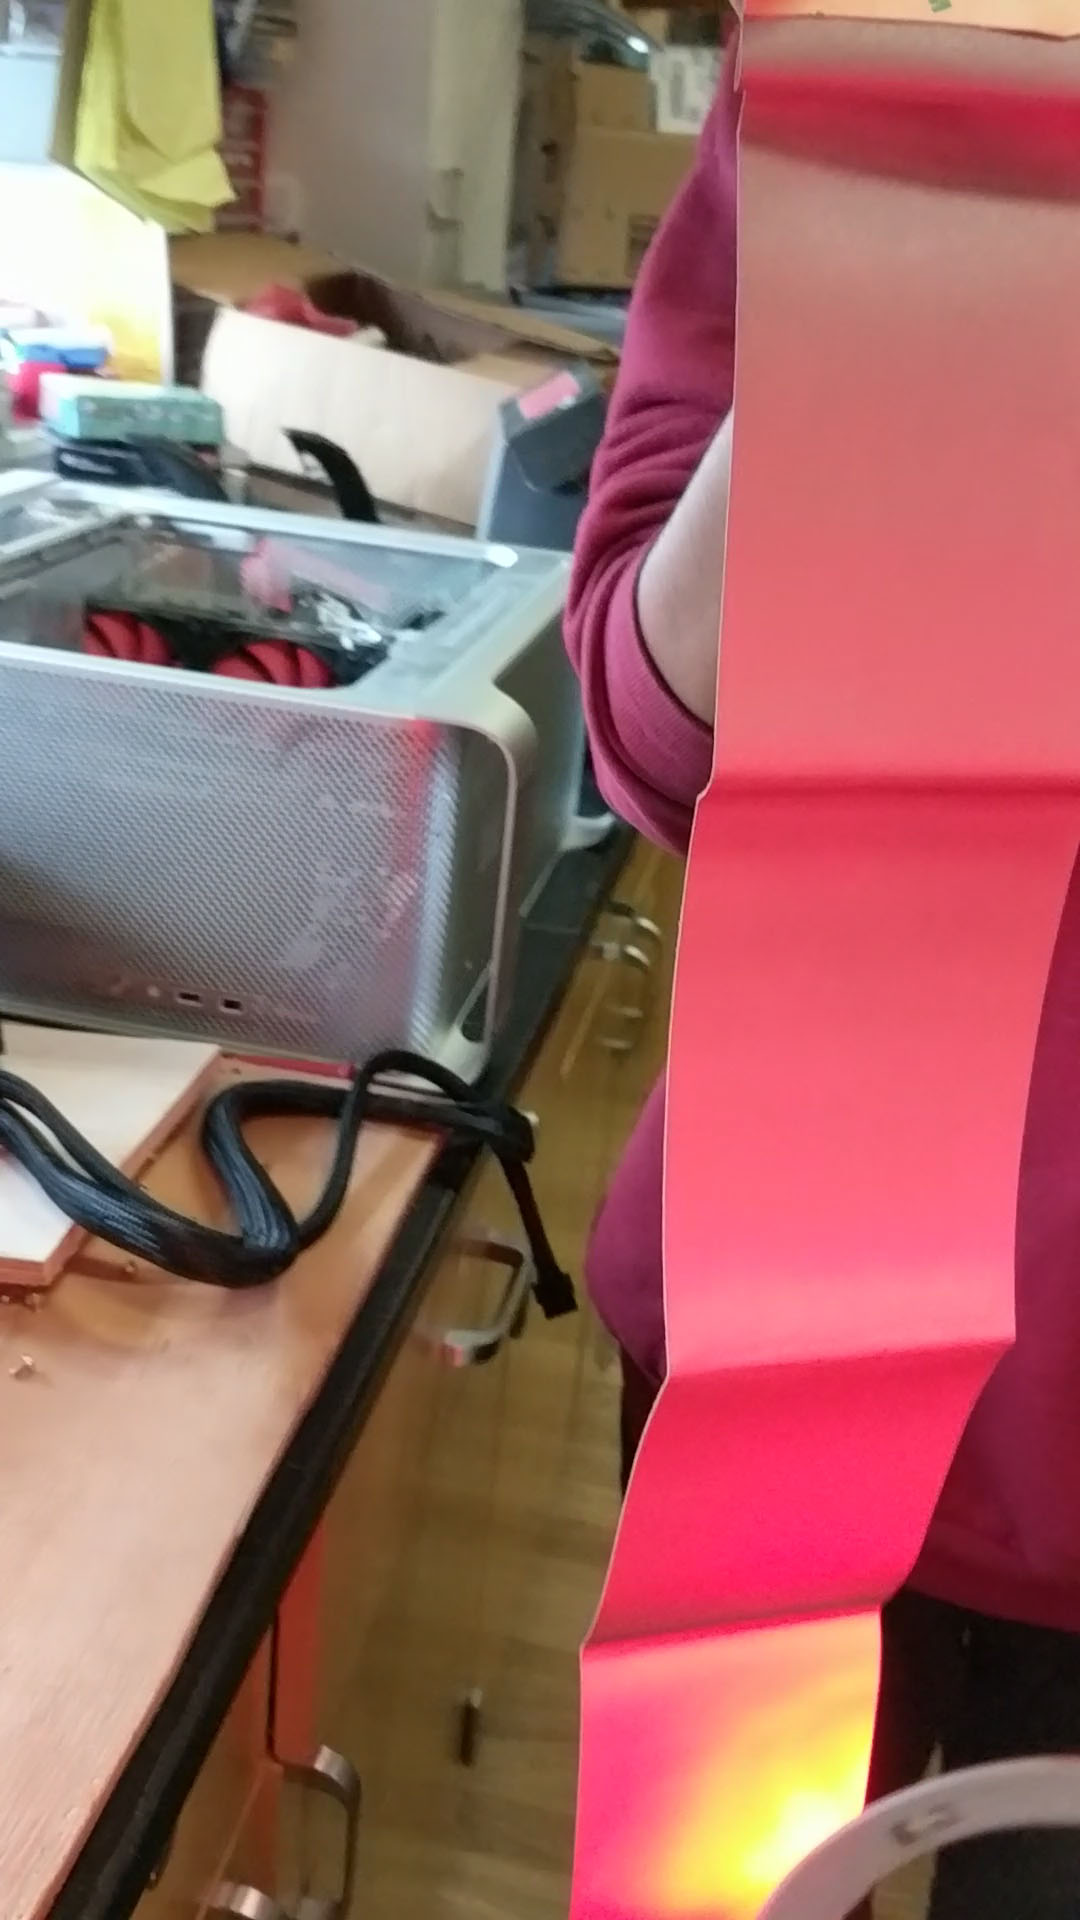gear: (580, 0, 1080, 1920)
